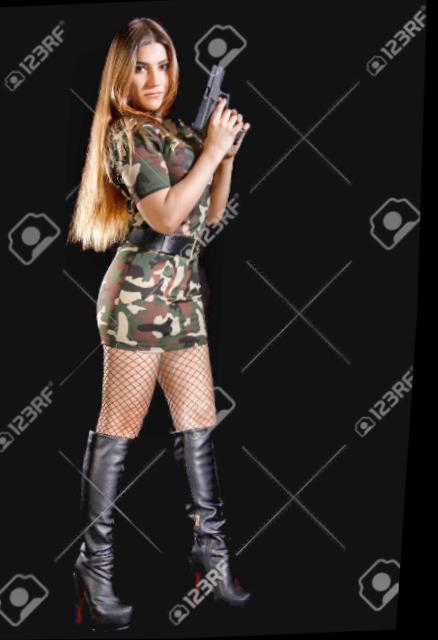pistol: (190, 61, 258, 149)
